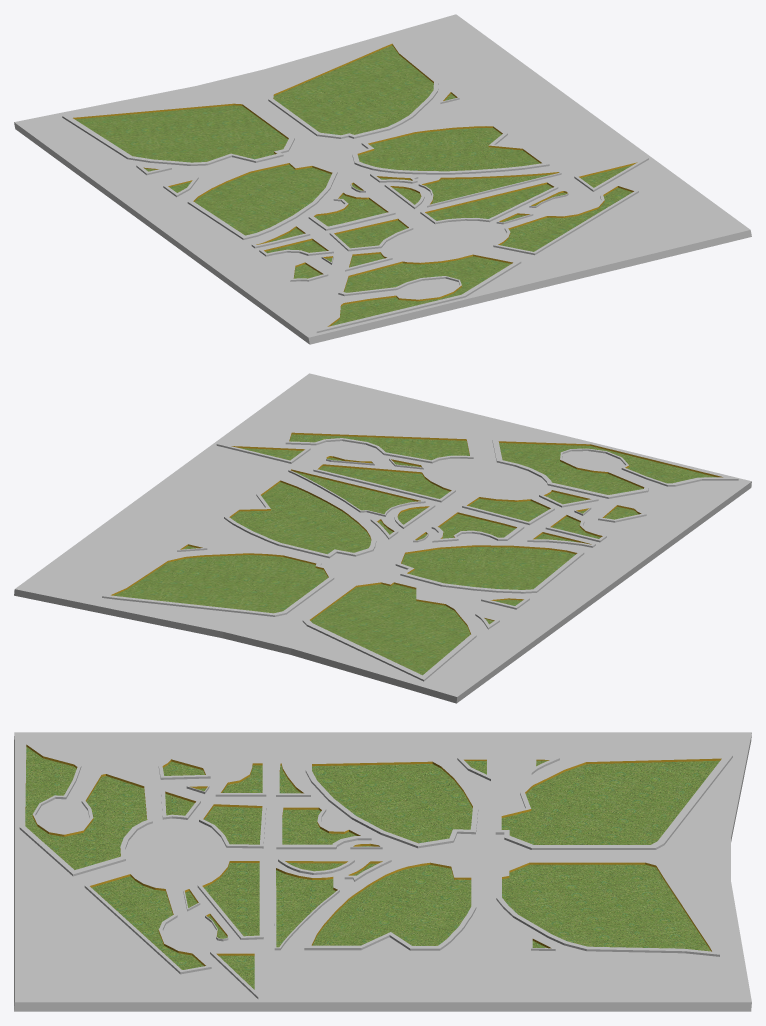
The model's file is parqueMariposa-.fbx.
3 renders of one model, top to bottom at view 1: azimuth 30°, elevation 25°; view 2: azimuth 150°, elevation 25°; view 3: azimuth 270°, elevation 25°, orthographic. The views are drawn at different scales.
Parts seen in each view (by area): view 1: Plano.003; view 2: Plano.003; view 3: Plano.003.
Part boxes in pixels (box(x1,y1,x2,y2)): Plano.003: box(14, 14, 751, 344); Plano.003: box(14, 373, 751, 703); Plano.003: box(14, 732, 751, 1011).
Bounding box in the file's own units: 836 × 15.65 × 963.
